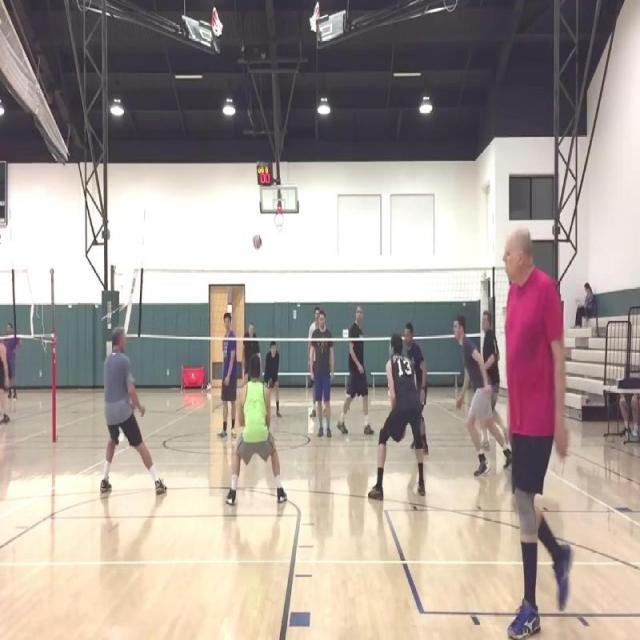volleyball: (252, 233, 261, 249)
